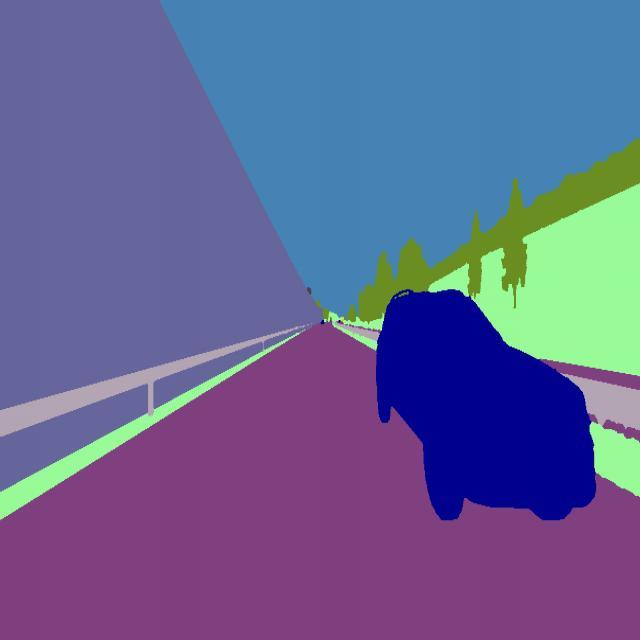unsafe: (360, 274, 606, 536)
